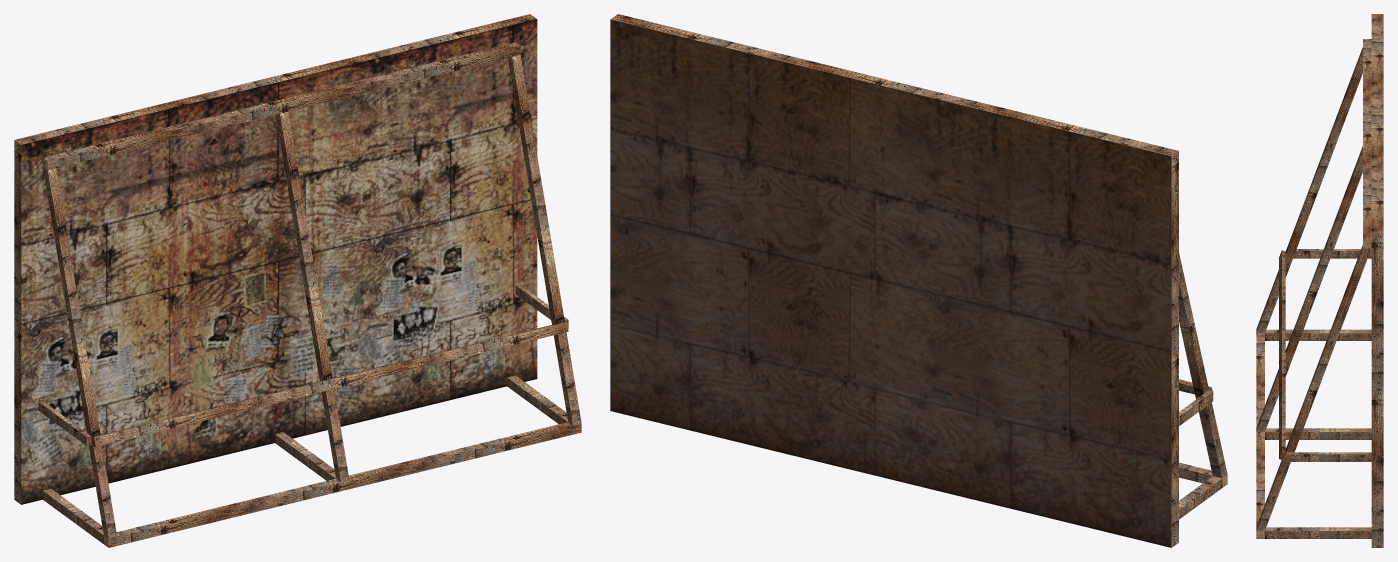
The model's file is lrg_rooftop.fbx.
3 renders of one model, left to right at view 1: azimuth 30°, elevation 25°; view 2: azimuth 150°, elevation 25°; view 3: azimuth 270°, elevation 25°, orthographic. The views are drawn at different scales.
Visible parts, largest first — view 1: mesh_1, mesh_2, mesh_0; view 2: mesh_0, mesh_2; view 3: mesh_2, mesh_0.
Part boxes in pixels (<box>): mesh_1: <box>21,19,537,504</box>; mesh_2: <box>38,42,581,547</box>; mesh_0: <box>14,14,536,504</box>; mesh_0: <box>610,14,1178,547</box>; mesh_2: <box>1179,253,1227,519</box>; mesh_2: <box>1256,39,1371,538</box>; mesh_0: <box>1371,14,1383,547</box>.
Size of the model in its own units: 600 by 400 by 147.
2 materials, 2 textured.
